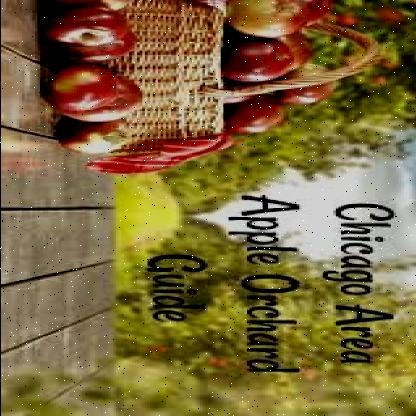apple: (220, 33, 298, 89), (66, 72, 146, 123), (60, 112, 141, 160), (50, 62, 124, 112), (44, 9, 130, 50), (220, 0, 304, 34), (288, 62, 343, 108), (219, 99, 282, 135)
